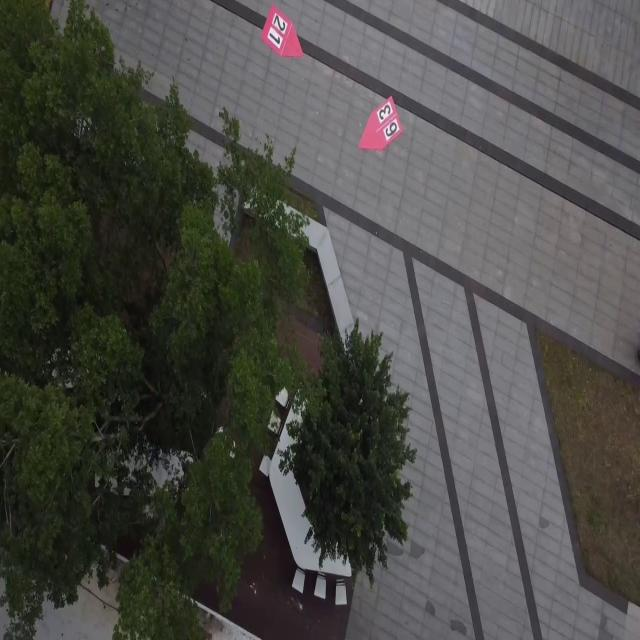-sign-: (358, 93, 403, 152), (260, 4, 304, 58)
